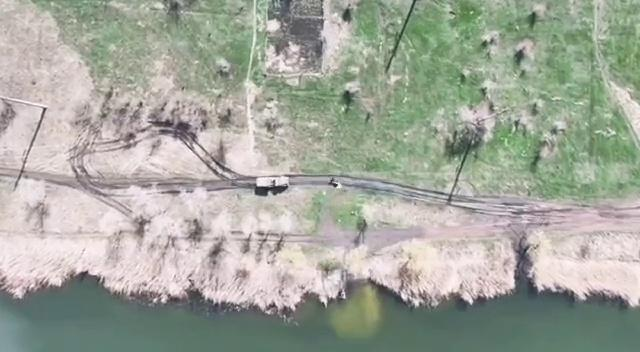vehicle: (255, 176, 289, 188)
